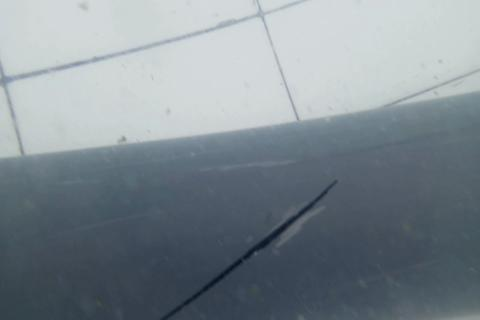keretakan: (163, 179, 337, 320)
